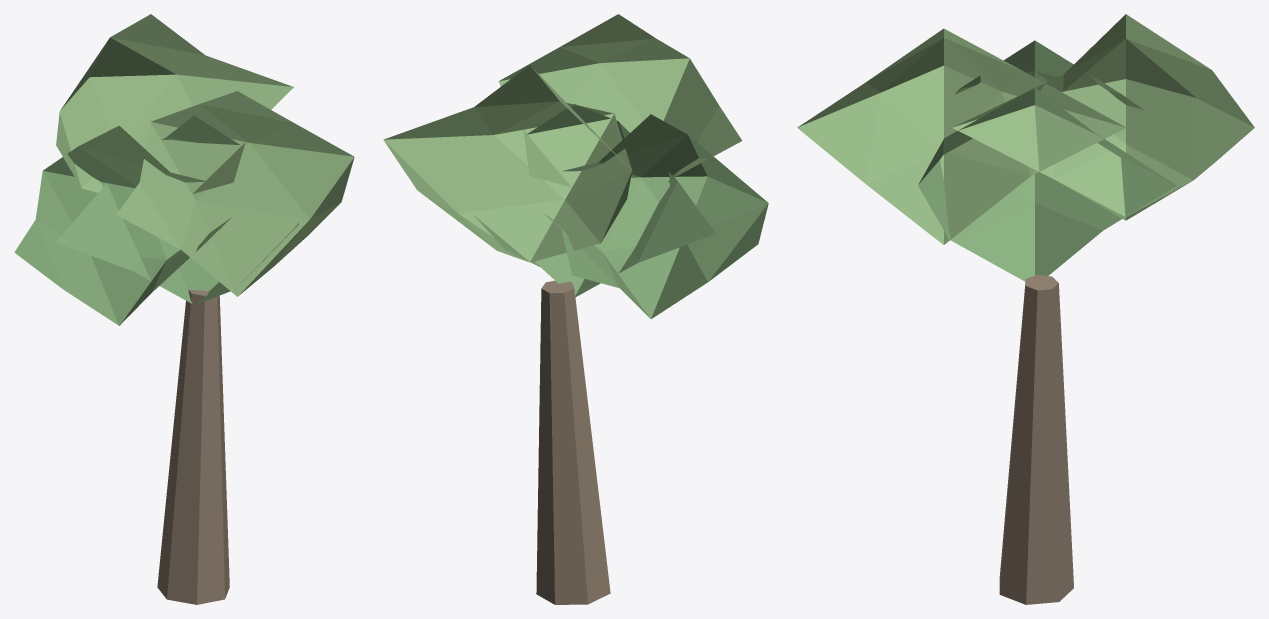
Rendered from broadleaf_v03.glb.
The picture shows the model from 3 angles, left to right: view 1: azimuth 30°, elevation 25°; view 2: azimuth 150°, elevation 25°; view 3: azimuth 270°, elevation 25°; orthographic projection. The views are drawn at different scales.
Parts seen in each view (by area): view 1: lod0; view 2: lod0; view 3: lod0.
Boxes of the visible parts, bbox=[...] form: lod0: bbox=[14, 14, 354, 604]; lod0: bbox=[383, 14, 768, 604]; lod0: bbox=[797, 14, 1254, 604].
Size of what is drawn, in the model's own units: 3.6 by 5.82 by 4.2.
